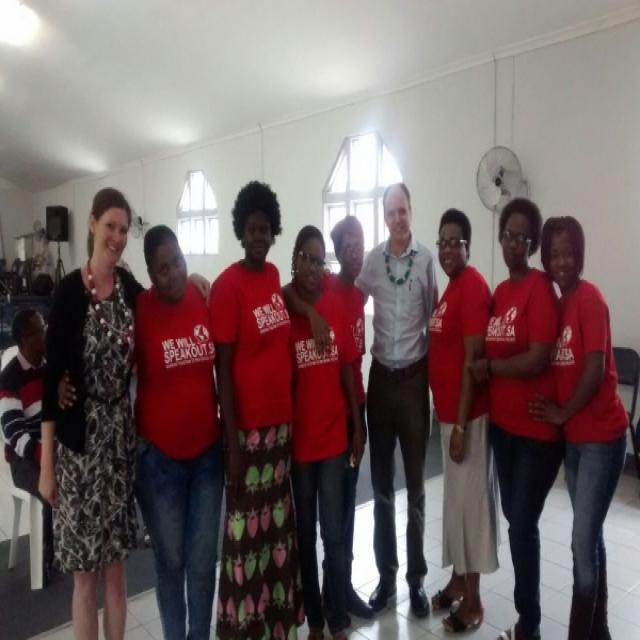body: (36, 181, 212, 638), (462, 189, 566, 638), (526, 210, 631, 638), (209, 176, 301, 638), (280, 211, 376, 632), (134, 221, 228, 638), (353, 181, 440, 622), (279, 224, 365, 635), (424, 207, 504, 636), (0, 305, 54, 587), (0, 255, 53, 302), (371, 604, 433, 638), (129, 493, 150, 566)
